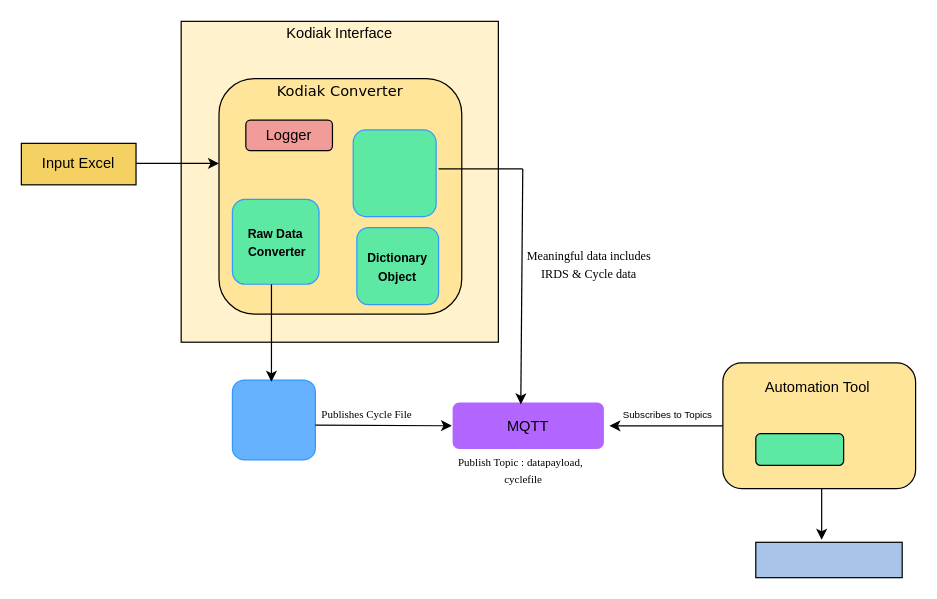
Some shapes in this 937 by 599 pixel diagram are drawn without their labels. The shapes that lost their labels are listed below. From the top down, each one's centre as x and y in pixels, then its label:
At (394,173): "Publish Meaningful data using Keys".
At (273,419): "UCP".
At (799,448): "Event Extractor".
At (828,559): "Display Comparsion".
